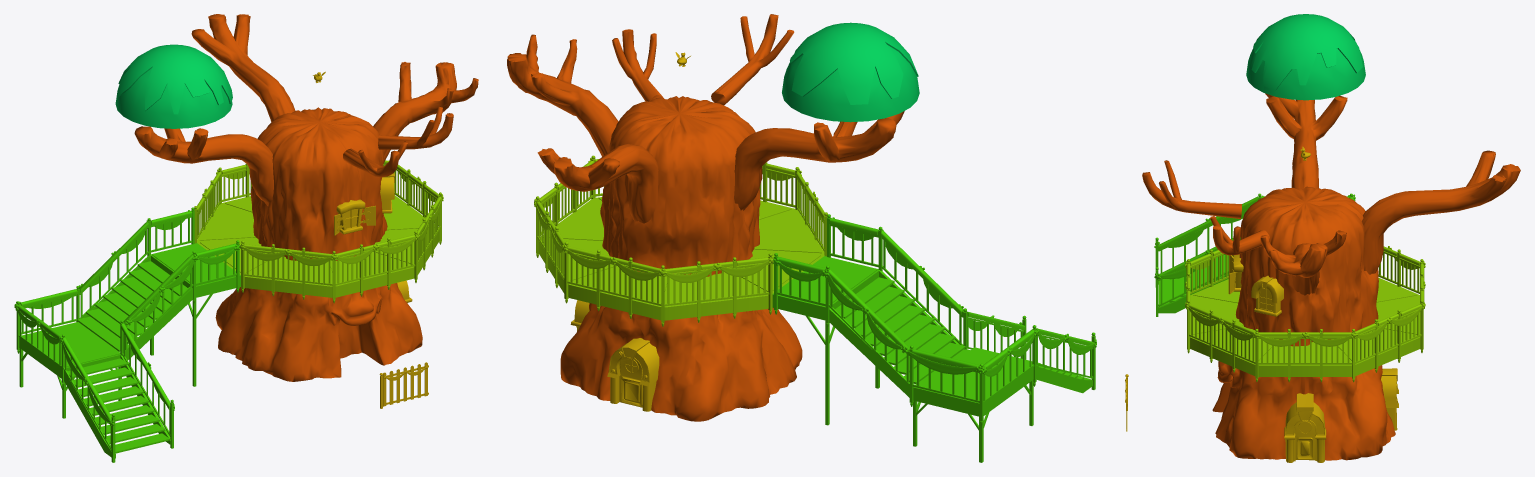
File: Big_tree_1.fbx
3 renders of one model, left to right at view 1: azimuth 30°, elevation 25°; view 2: azimuth 150°, elevation 25°; view 3: azimuth 270°, elevation 25°, orthographic. The views are drawn at different scales.
Visible parts, largest first — view 1: Big_Tree_1; view 2: Big_Tree_1; view 3: Big_Tree_1.
Boxes of the visible parts, x1=… form: Big_Tree_1: x1=14, y1=14, x2=478, y2=462; Big_Tree_1: x1=507, y1=14, x2=1096, y2=462; Big_Tree_1: x1=1125, y1=14, x2=1520, y2=462.
Bounding box in the file's own units: 1792 × 1314 × 1410.
